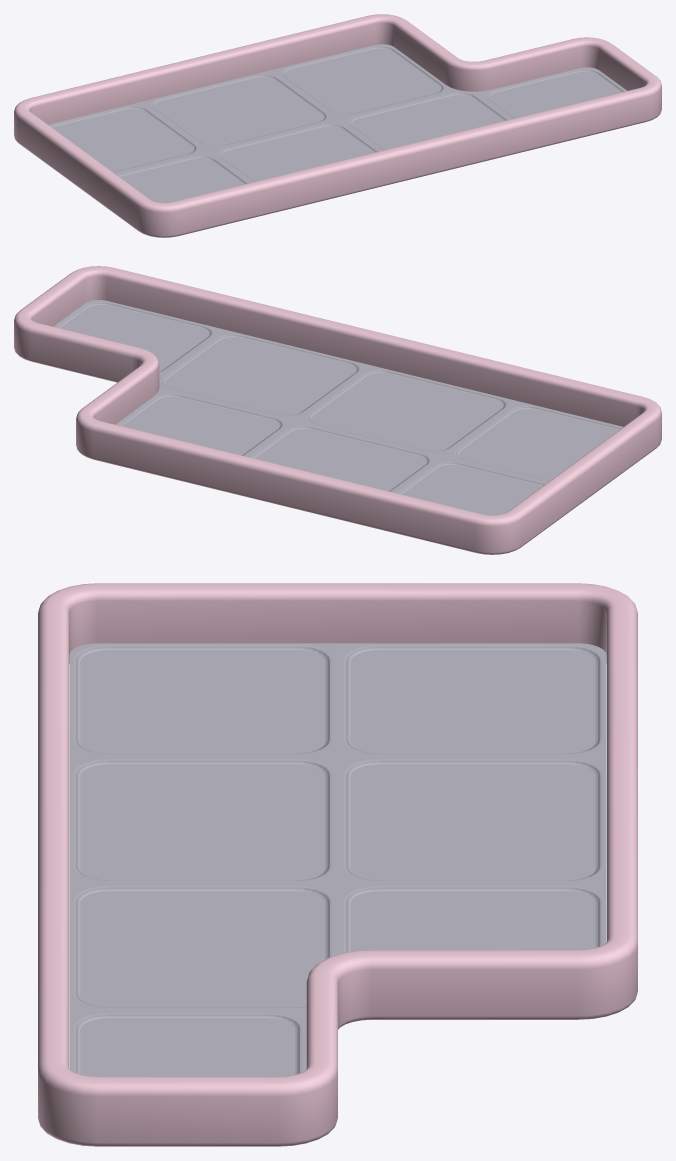
File: mockup-v1-waiting-board.fbx
3 views of the same model, one above another, from view 1: azimuth 30°, elevation 25°; view 2: azimuth 150°, elevation 25°; view 3: azimuth 270°, elevation 25° (orthographic). The views are drawn at different scales.
Visible parts, largest first — view 1: Rim, Floor; view 2: Rim, Floor; view 3: Floor, Rim.
Boxes of the visible parts, x1=… form: Rim: x1=14, y1=14, x2=661, y2=237; Floor: x1=48, y1=44, x2=626, y2=202; Rim: x1=14, y1=266, x2=661, y2=554; Floor: x1=53, y1=300, x2=622, y2=515; Floor: x1=69, y1=643, x2=606, y2=1076; Rim: x1=38, y1=583, x2=637, y2=1146.
Bounding box in the file's own units: 4.6 × 0.26 × 2.3.
